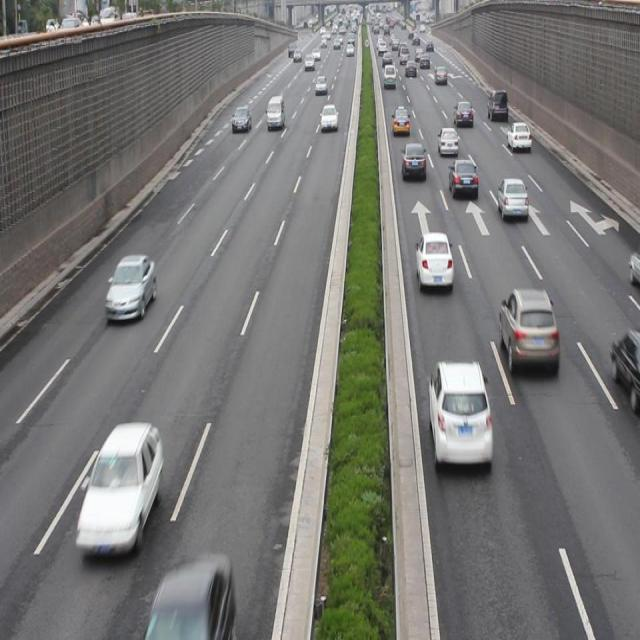car: (75, 420, 162, 552), (427, 358, 492, 468), (498, 287, 558, 377), (105, 253, 156, 322), (414, 231, 453, 289), (610, 332, 640, 399), (495, 176, 528, 220), (447, 157, 478, 199), (400, 142, 426, 182), (506, 121, 531, 152), (436, 125, 458, 156), (487, 90, 508, 122), (454, 98, 474, 127), (319, 103, 338, 133), (391, 107, 409, 135), (233, 104, 251, 132)
truck: (265, 95, 284, 130)
